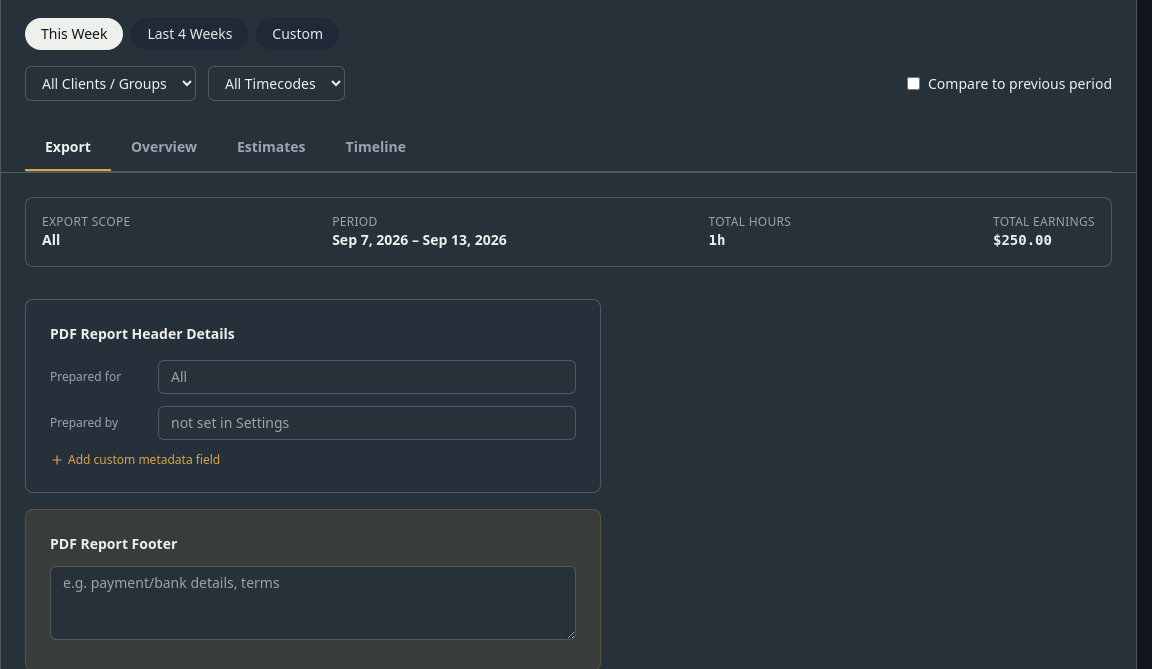
a flat fee on an entry that also has tracked time › breaks the fee out of the row so rate x hours + fees is the total
Click the tab "Overview": (164, 148) [111,125,217,171]
(page scrolled)
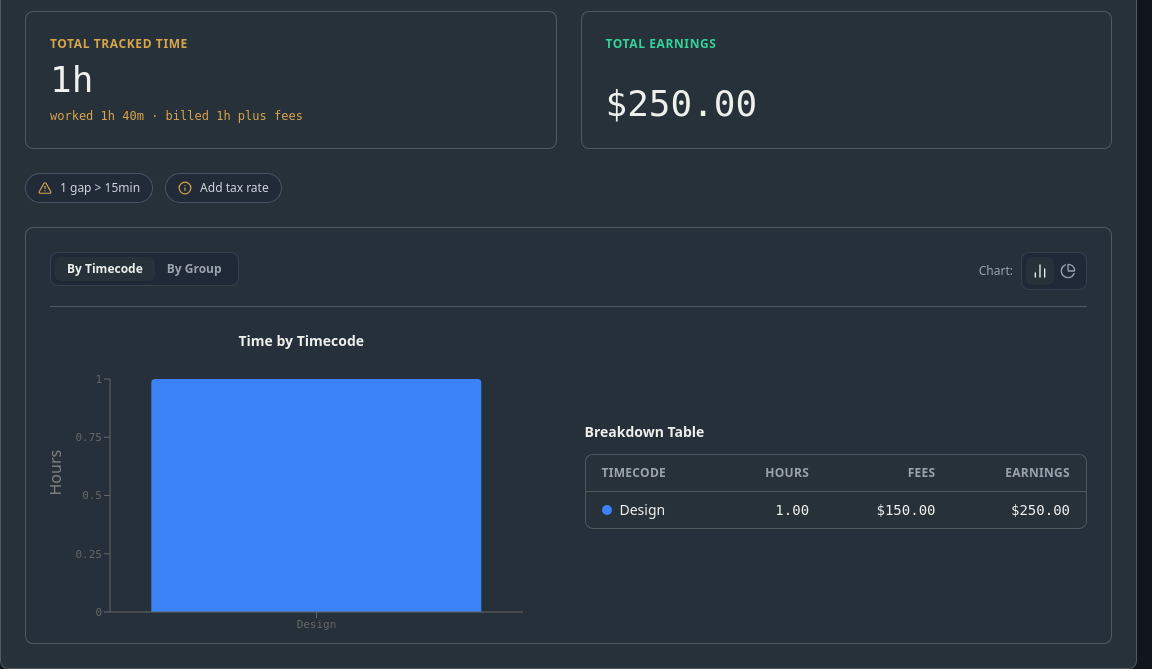
Expected: the text "Design" is shown, [620,500,665,518]
Expected: the cells read "Design", "1.00", "$150.00", "$250.00", in this order, [586,492,720,528]; [720,491,825,528]; [825,491,952,528]; [952,491,1086,528]
